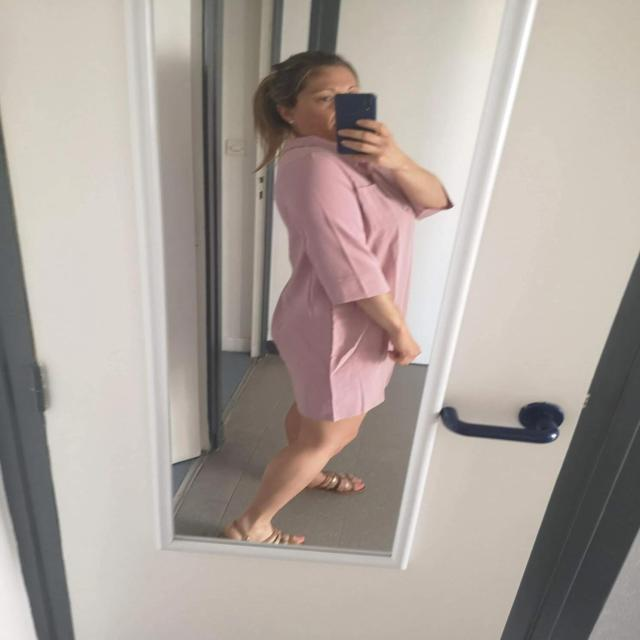clothes: (228, 135, 436, 441)
